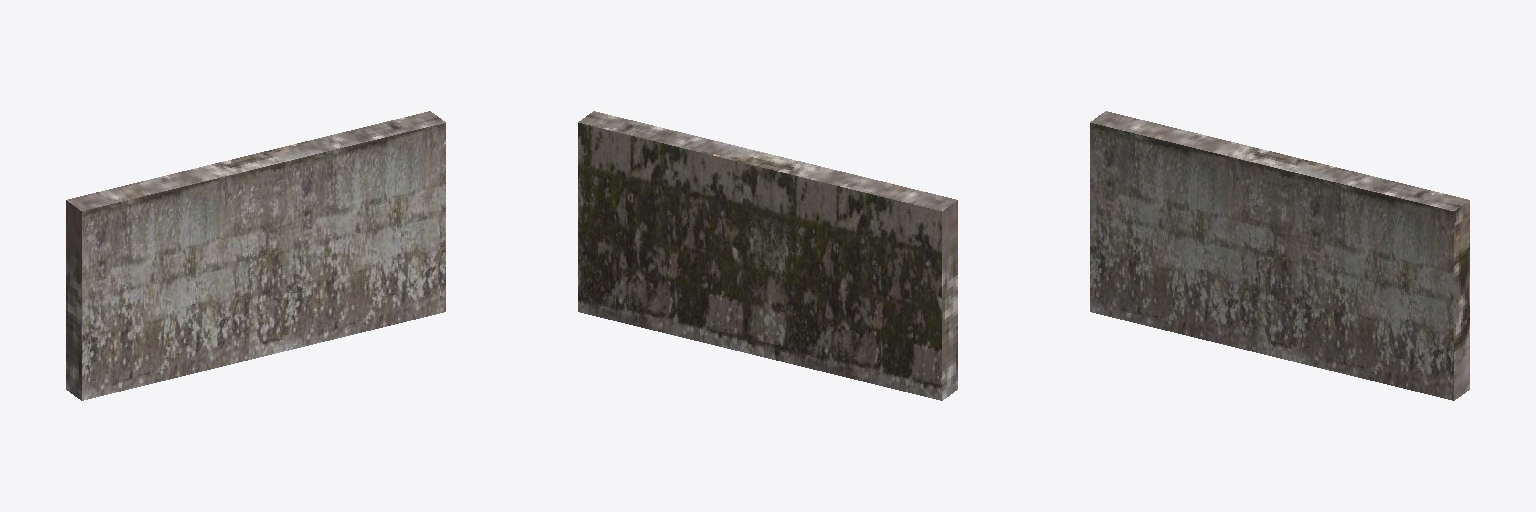
The picture shows the model from 3 angles: view 1: azimuth 30°, elevation 25°; view 2: azimuth 150°, elevation 25°; view 3: azimuth 330°, elevation 25°; orthographic projection.
Parts seen in each view (by area): view 1: Wall_Cube.004; view 2: Wall_Cube.004; view 3: Wall_Cube.004.
Boxes of the visible parts, <box> form: Wall_Cube.004: <box>66,111,445,400</box>; Wall_Cube.004: <box>578,111,957,400</box>; Wall_Cube.004: <box>1090,111,1469,400</box>.
Bounding box in the file's own units: 19.94 × 9.91 × 1.49.
Materials: 1 (1 with a texture image).